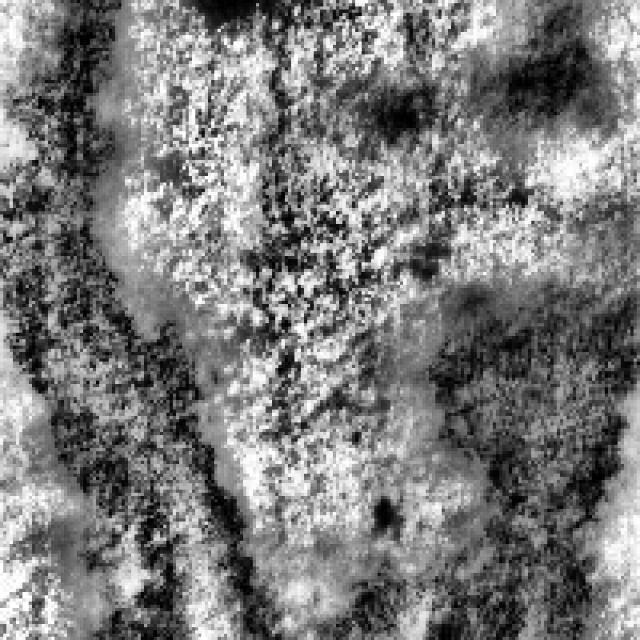Scratches: (0, 3, 253, 634), (329, 282, 636, 634), (470, 0, 591, 134)
